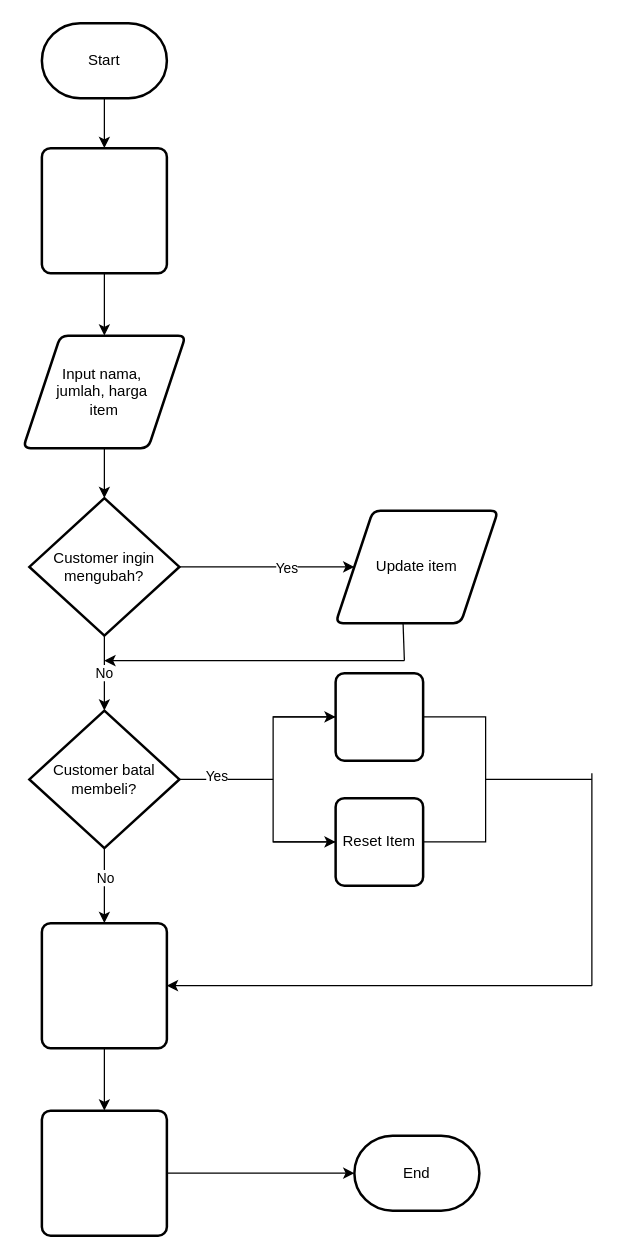
This 624x1258 diagram has some shape labels left out. The centre of each missing label's shape, as x and y in pixels:
Cek Order: the point at 104,985
Customer berbelanja: the point at 104,210
Hapus Item: the point at 379,716
Hitung total belanja: the point at 104,1172
